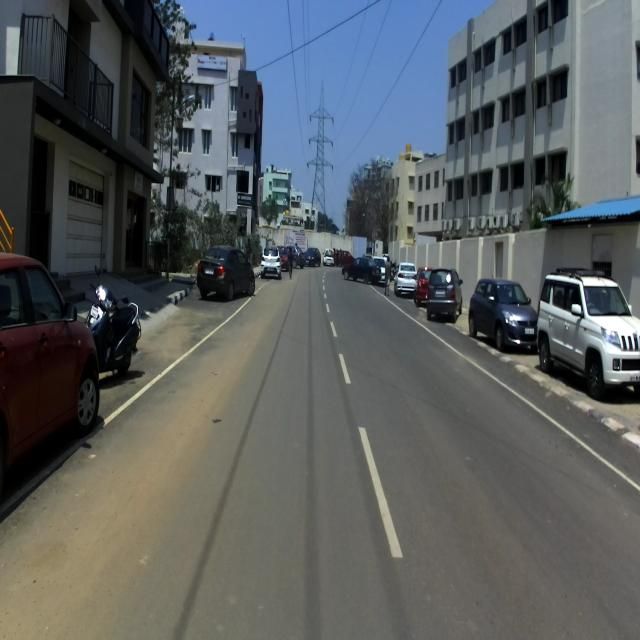car ahead at: (0, 253, 102, 482), (542, 267, 640, 395), (471, 279, 542, 348), (198, 244, 255, 299)
motorcycle ahead at: (87, 265, 143, 381)
